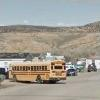Bus: (10, 61, 68, 84)
